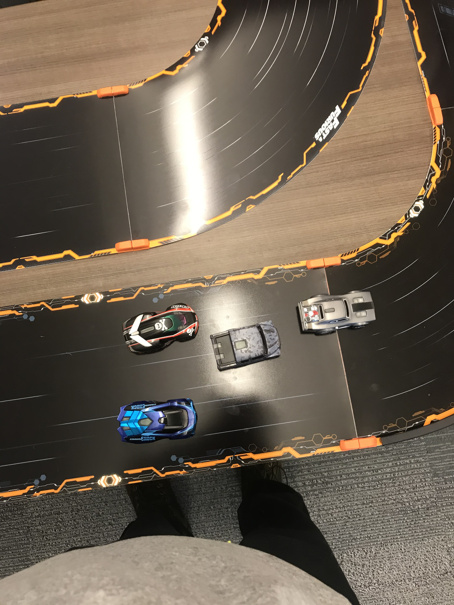Charger: (297, 288, 383, 334)
MXT: (209, 317, 283, 374)
Shock: (117, 397, 197, 443)
Skull: (122, 299, 203, 356)
